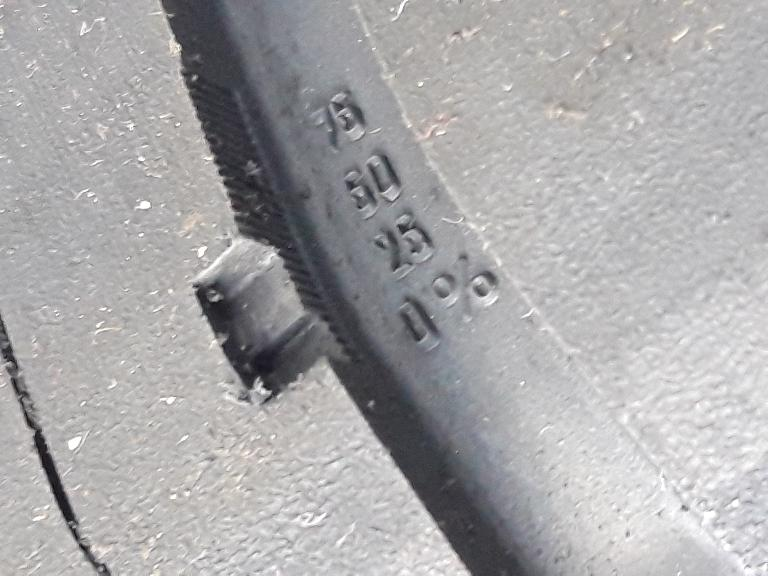temoin:50: (164, 176, 381, 420)
